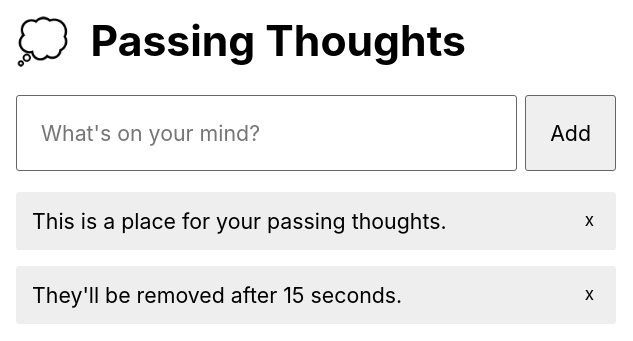
Test: Clicking the x button should remove a thought
Step 1. Click the 1st button "x" → (589, 220), box x1=579 y1=208 x2=600 y2=232
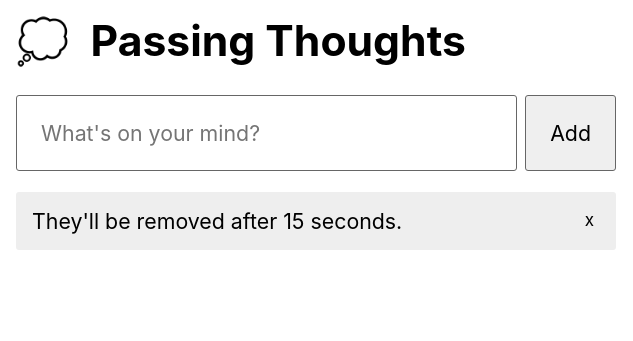
Expected: the text "This is a place for your passing thoughts." is gone
